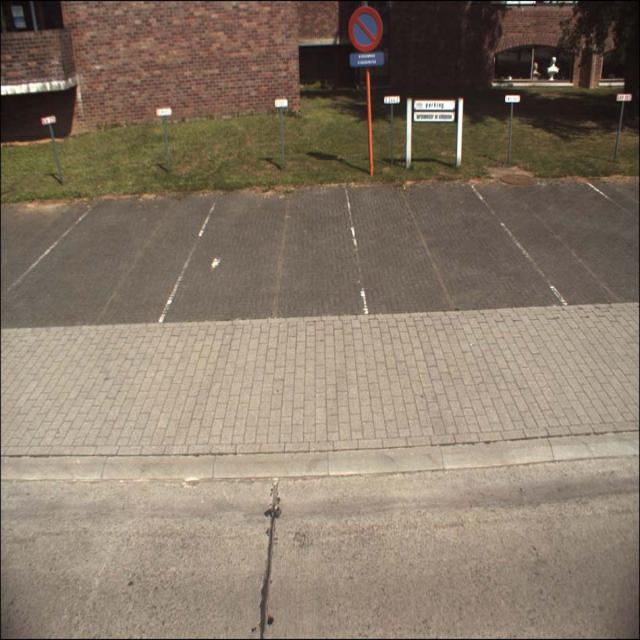parkyasak: (348, 7, 383, 52)
